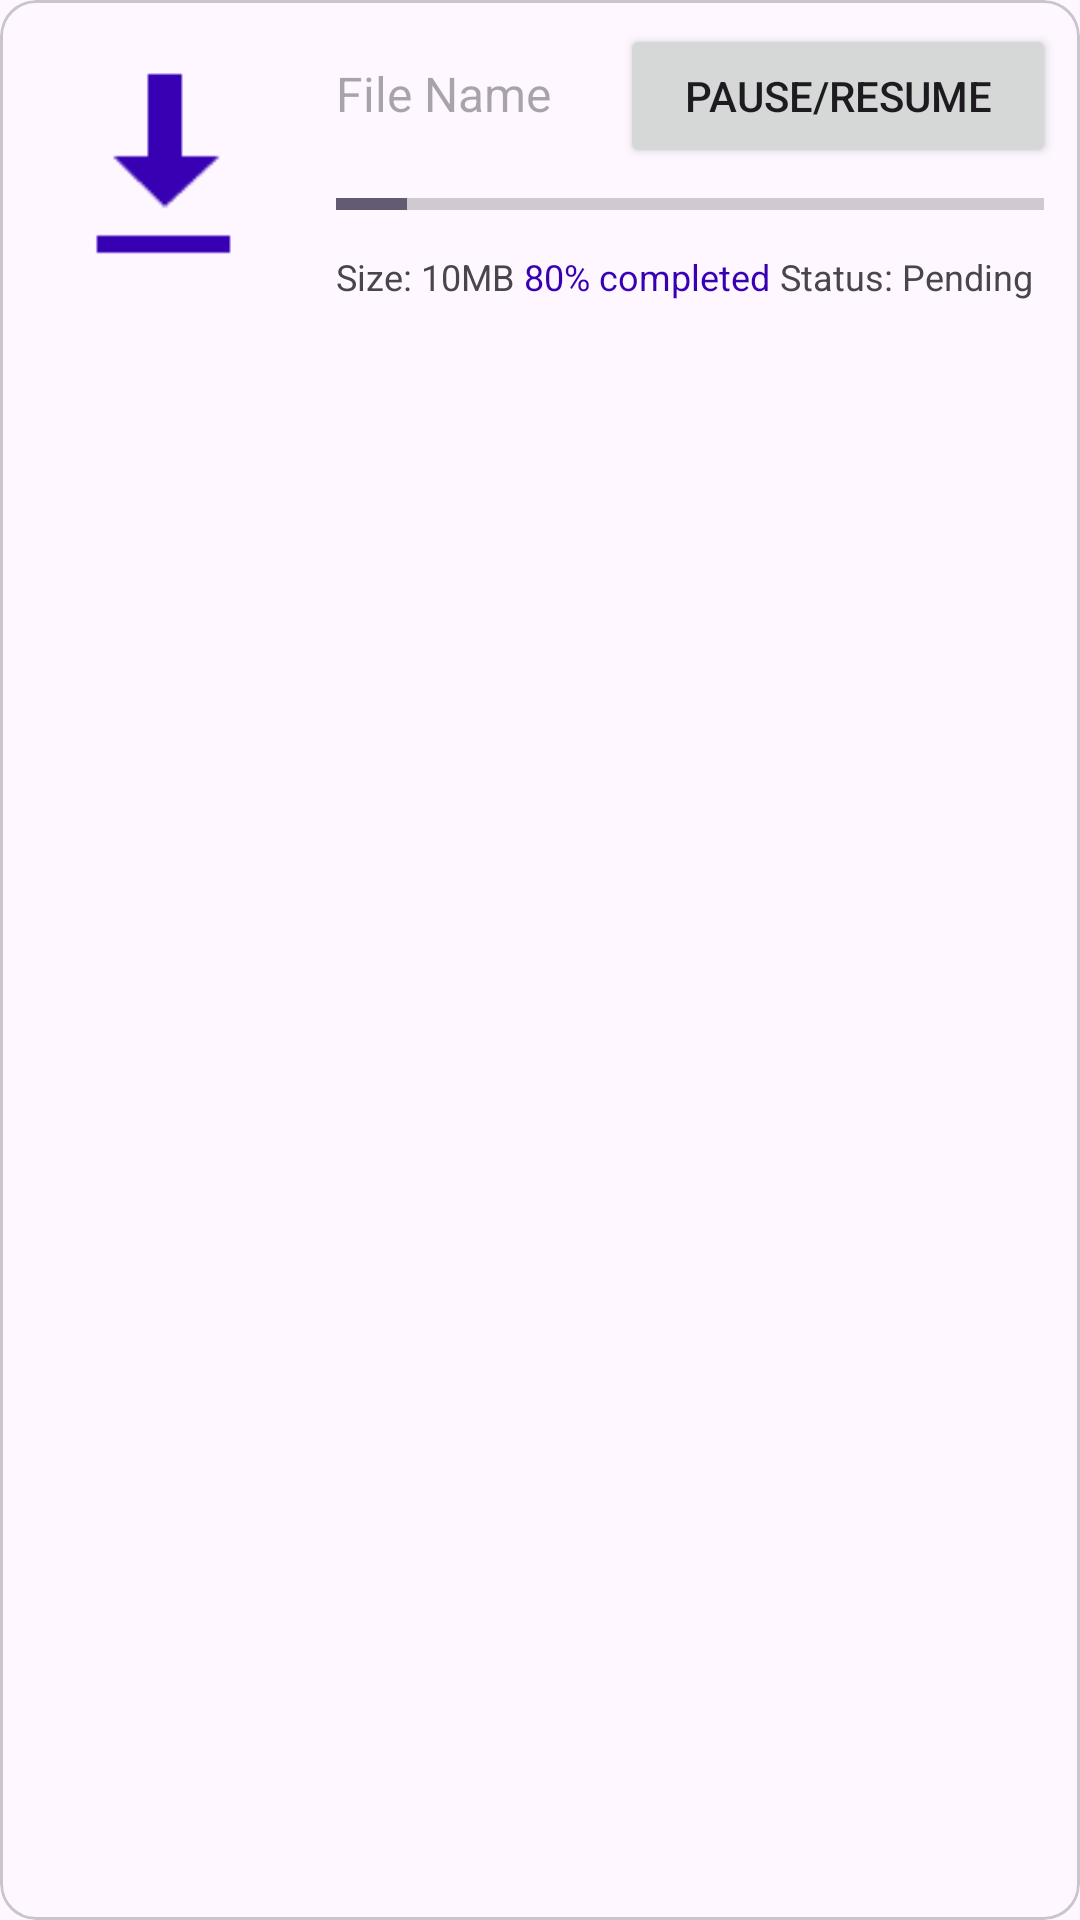

Icons on this 1080×1920 Android screen, each with its box as Rect(x1, y1, x2, y2):
download done: Rect(96, 73, 231, 254)
